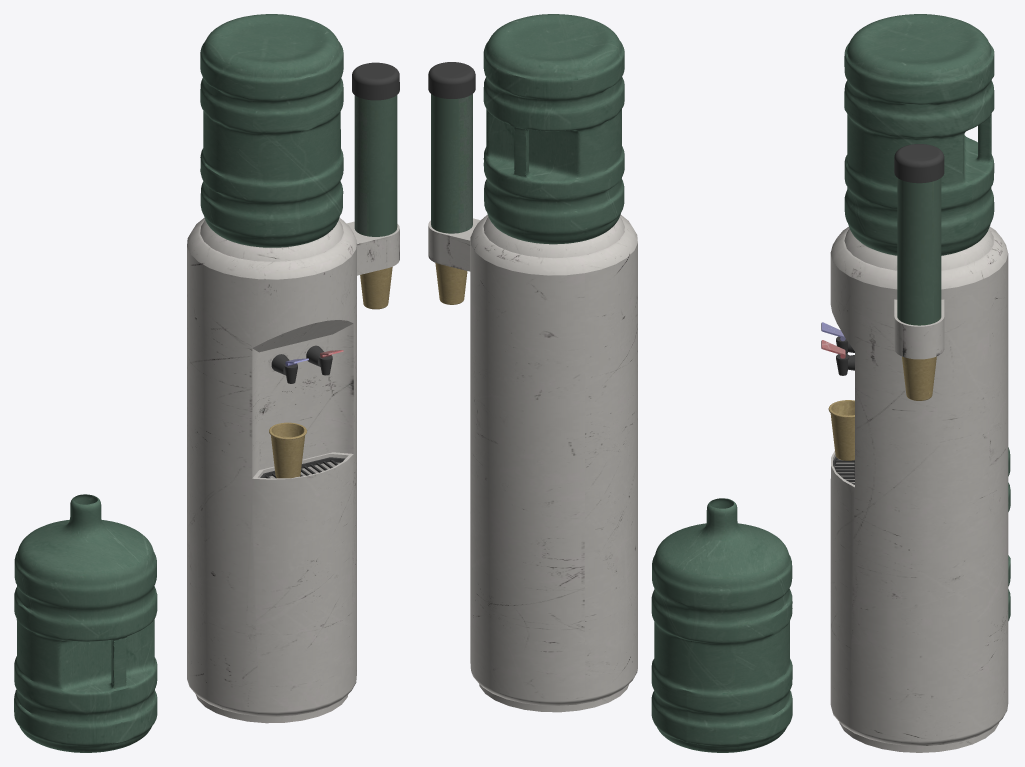
File: Dispenser.fbx
The picture shows the model from 3 angles, left to right: view 1: azimuth 30°, elevation 25°; view 2: azimuth 150°, elevation 25°; view 3: azimuth 270°, elevation 25°; orthographic projection. The views are drawn at different scales.
Parts seen in each view (by area): view 1: Object_2, Object_3; view 2: Object_2, Object_3; view 3: Object_2.
Part boxes in pixels (x1,y1,x2,y2): Object_2: (187, 14, 399, 723); Object_3: (14, 494, 157, 752); Object_2: (428, 14, 637, 712); Object_3: (651, 498, 792, 752); Object_2: (821, 14, 1008, 752).
Size of the model in its own units: 3113 by 5313 by 1344.
1 material, 1 textured.
